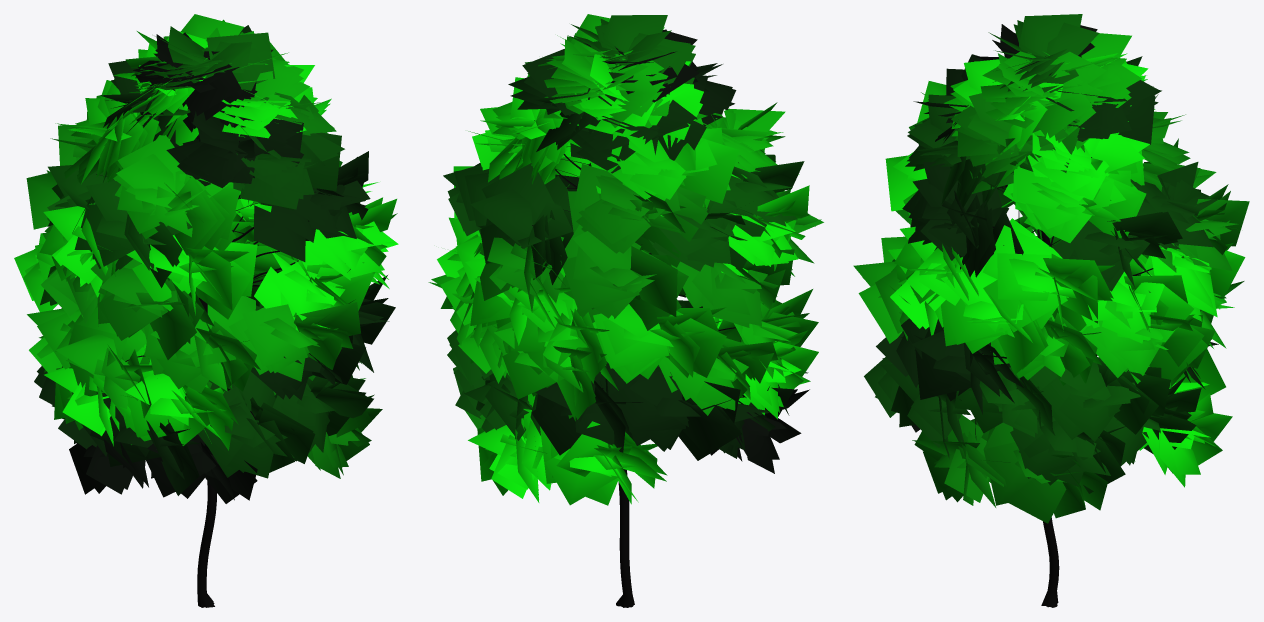
Rendered from SilverLime_3.fbx.
3 renders of one model, left to right at view 1: azimuth 30°, elevation 25°; view 2: azimuth 150°, elevation 25°; view 3: azimuth 270°, elevation 25°, orthographic.
Parts seen in each view (by area): view 1: SilverLime_3; view 2: SilverLime_3; view 3: SilverLime_3.
Boxes of the visible parts, bbox=[...] form: SilverLime_3: bbox=[14, 14, 398, 607]; SilverLime_3: bbox=[428, 14, 823, 607]; SilverLime_3: bbox=[853, 14, 1249, 607].
Size of the model in its own units: 571 by 933 by 587.
